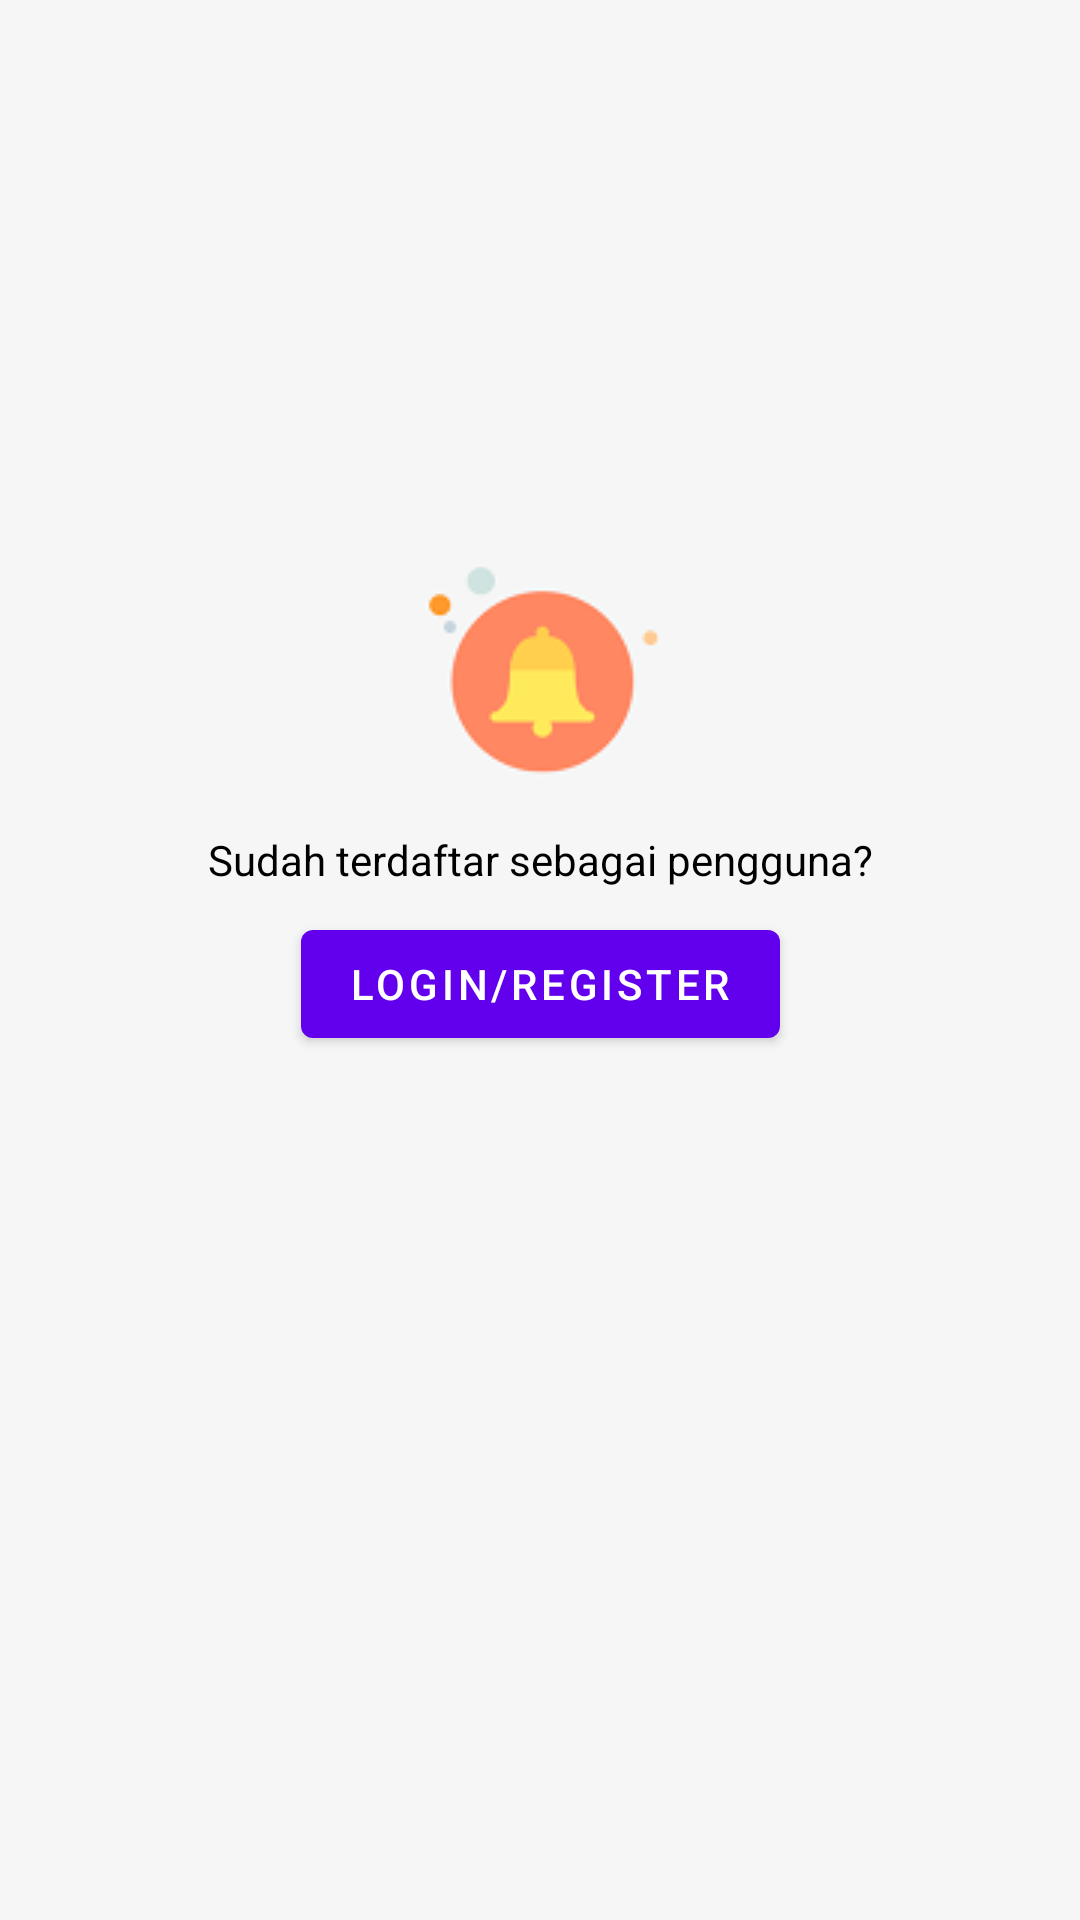

Icon bounding boxes for this 1080px x 1920px phone screenshot, format (x1, y1, x2, y2):
notifikasi: (428, 568, 658, 773)
